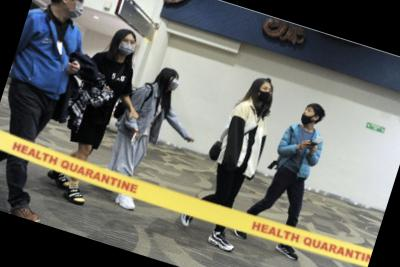mask_weared_incorrect: (300, 106, 317, 127)
with_mask: (116, 35, 139, 60), (255, 84, 275, 107), (167, 74, 182, 95)
